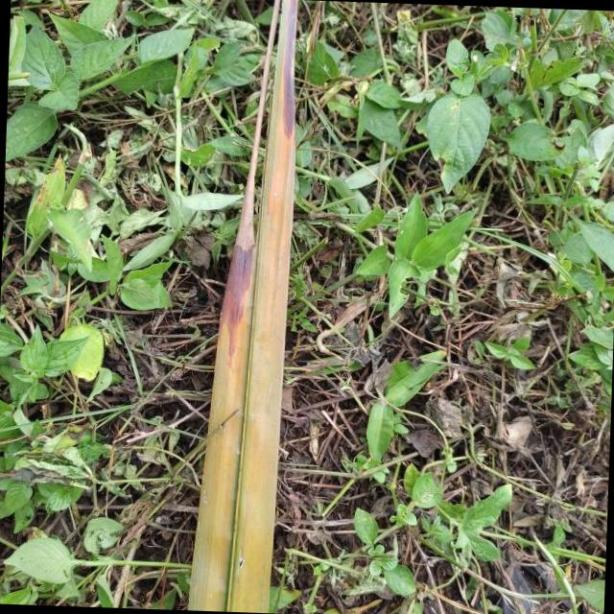Megnesium: (189, 0, 302, 614)
